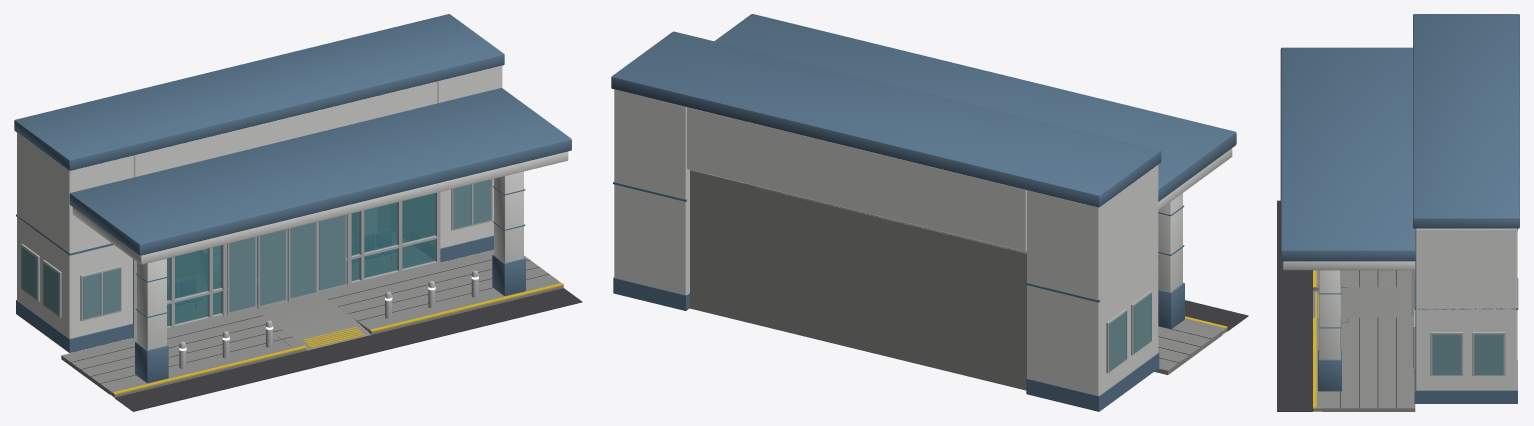
Rendered from HospitalEntrance.fbx.
3 views of the same model, side by side, from view 1: azimuth 30°, elevation 25°; view 2: azimuth 150°, elevation 25°; view 3: azimuth 270°, elevation 25° (orthographic). The views are drawn at different scales.
Parts seen in each view (by area): view 1: HospitalEntrance_Mesh; view 2: HospitalEntrance_Mesh; view 3: HospitalEntrance_Mesh.
Boxes of the visible parts, x1,y1,x2,y2 form: HospitalEntrance_Mesh: (14,14,582,411); HospitalEntrance_Mesh: (611,14,1248,411); HospitalEntrance_Mesh: (1277,14,1519,411).
Size of the model in its own units: 16.6 by 7 by 8.08.
